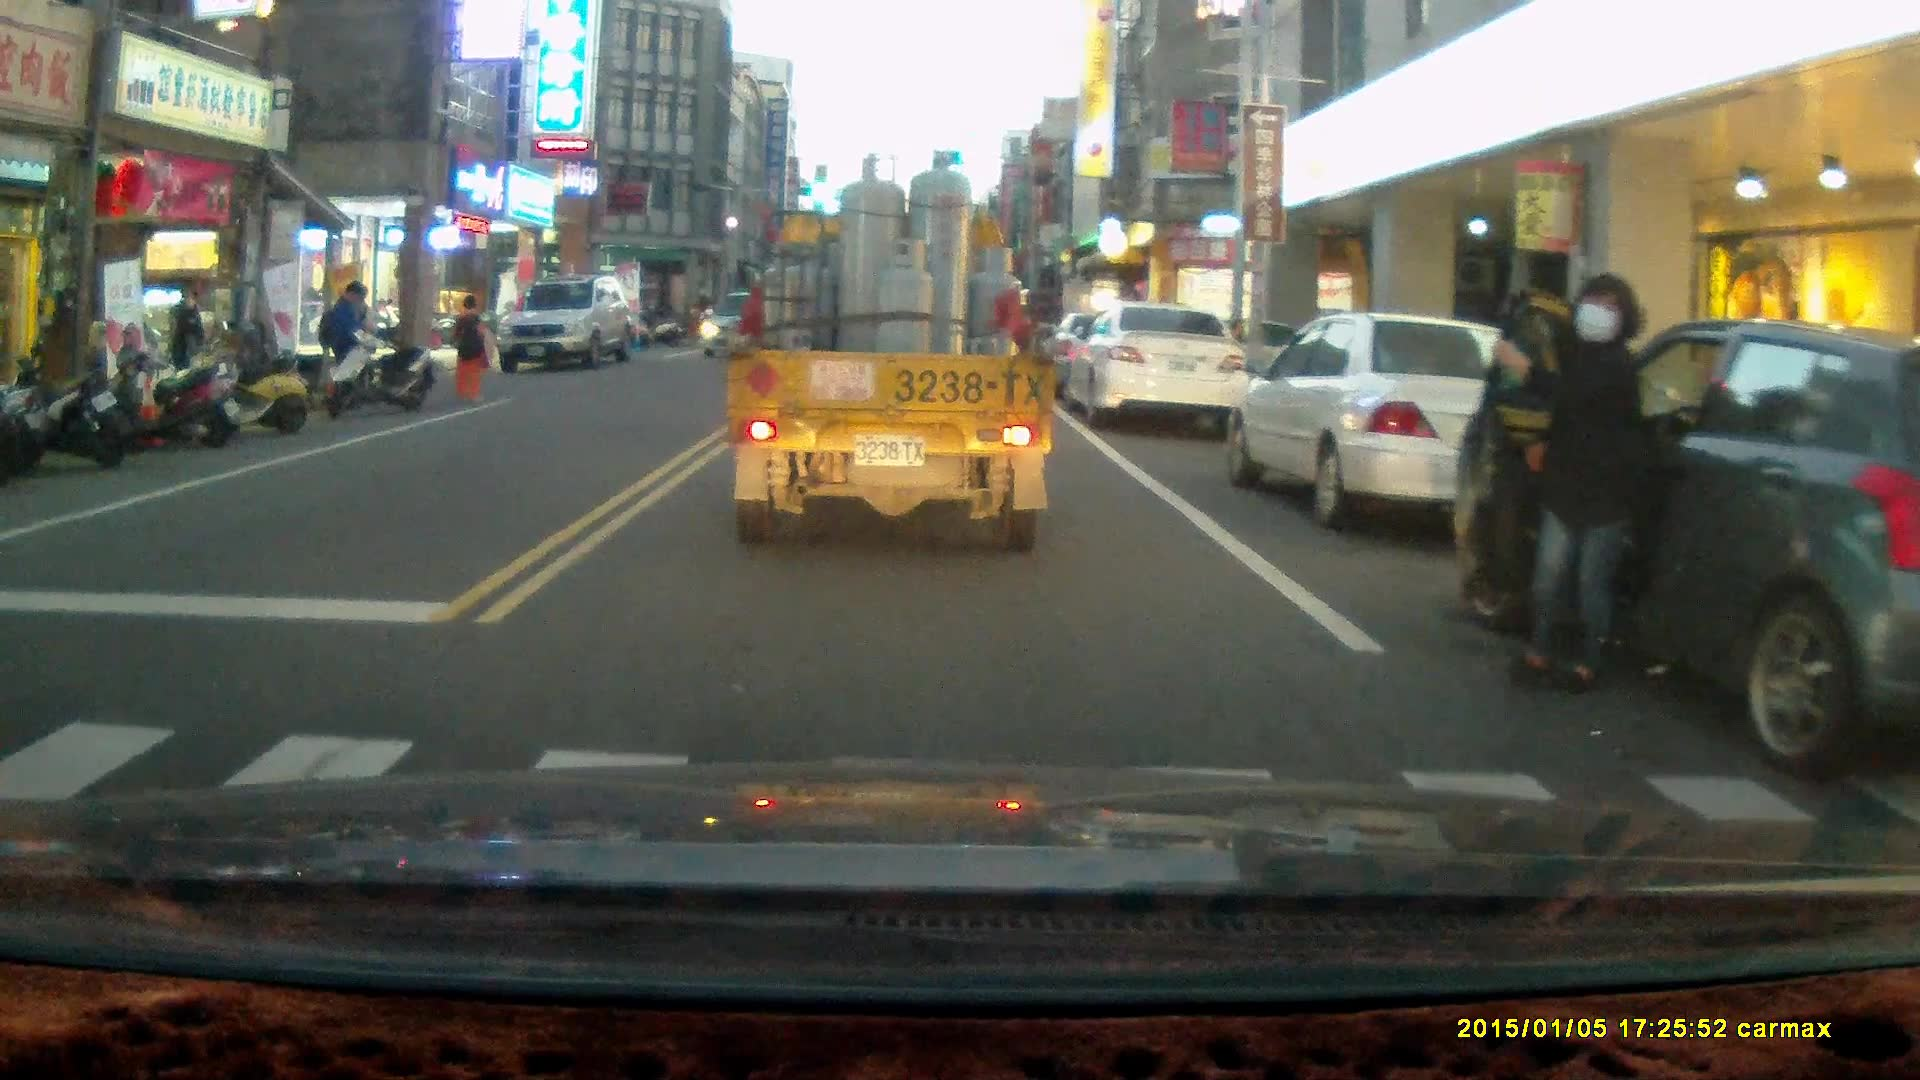pedestrian: (1488, 271, 1649, 699), (317, 279, 367, 404), (168, 285, 210, 414), (451, 292, 489, 403)
vehicle: (1457, 315, 1920, 779), (722, 145, 1064, 555), (1226, 315, 1587, 530), (1071, 304, 1259, 428), (498, 280, 638, 374), (701, 293, 775, 361)
